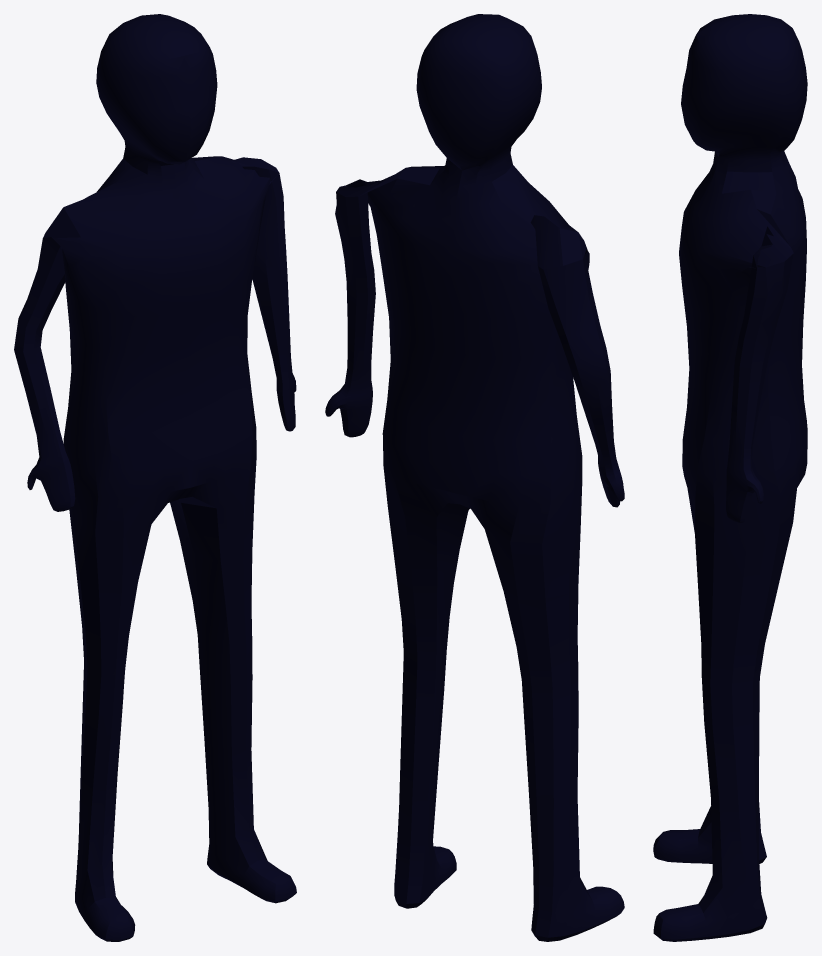
Rendered from humanResting.obj.
3 views of the same model, side by side, from view 1: azimuth 30°, elevation 25°; view 2: azimuth 150°, elevation 25°; view 3: azimuth 270°, elevation 25° (orthographic). The views are drawn at different scales.
Visible parts, largest first — view 1: Koerper; view 2: Koerper; view 3: Koerper.
Boxes of the visible parts, x1,y1,x2,y2 form: Koerper: (14,14,296,941); Koerper: (325,14,624,941); Koerper: (653,14,807,941).
Bounding box in the file's own units: 0.6038 × 1.8 × 0.2875.
